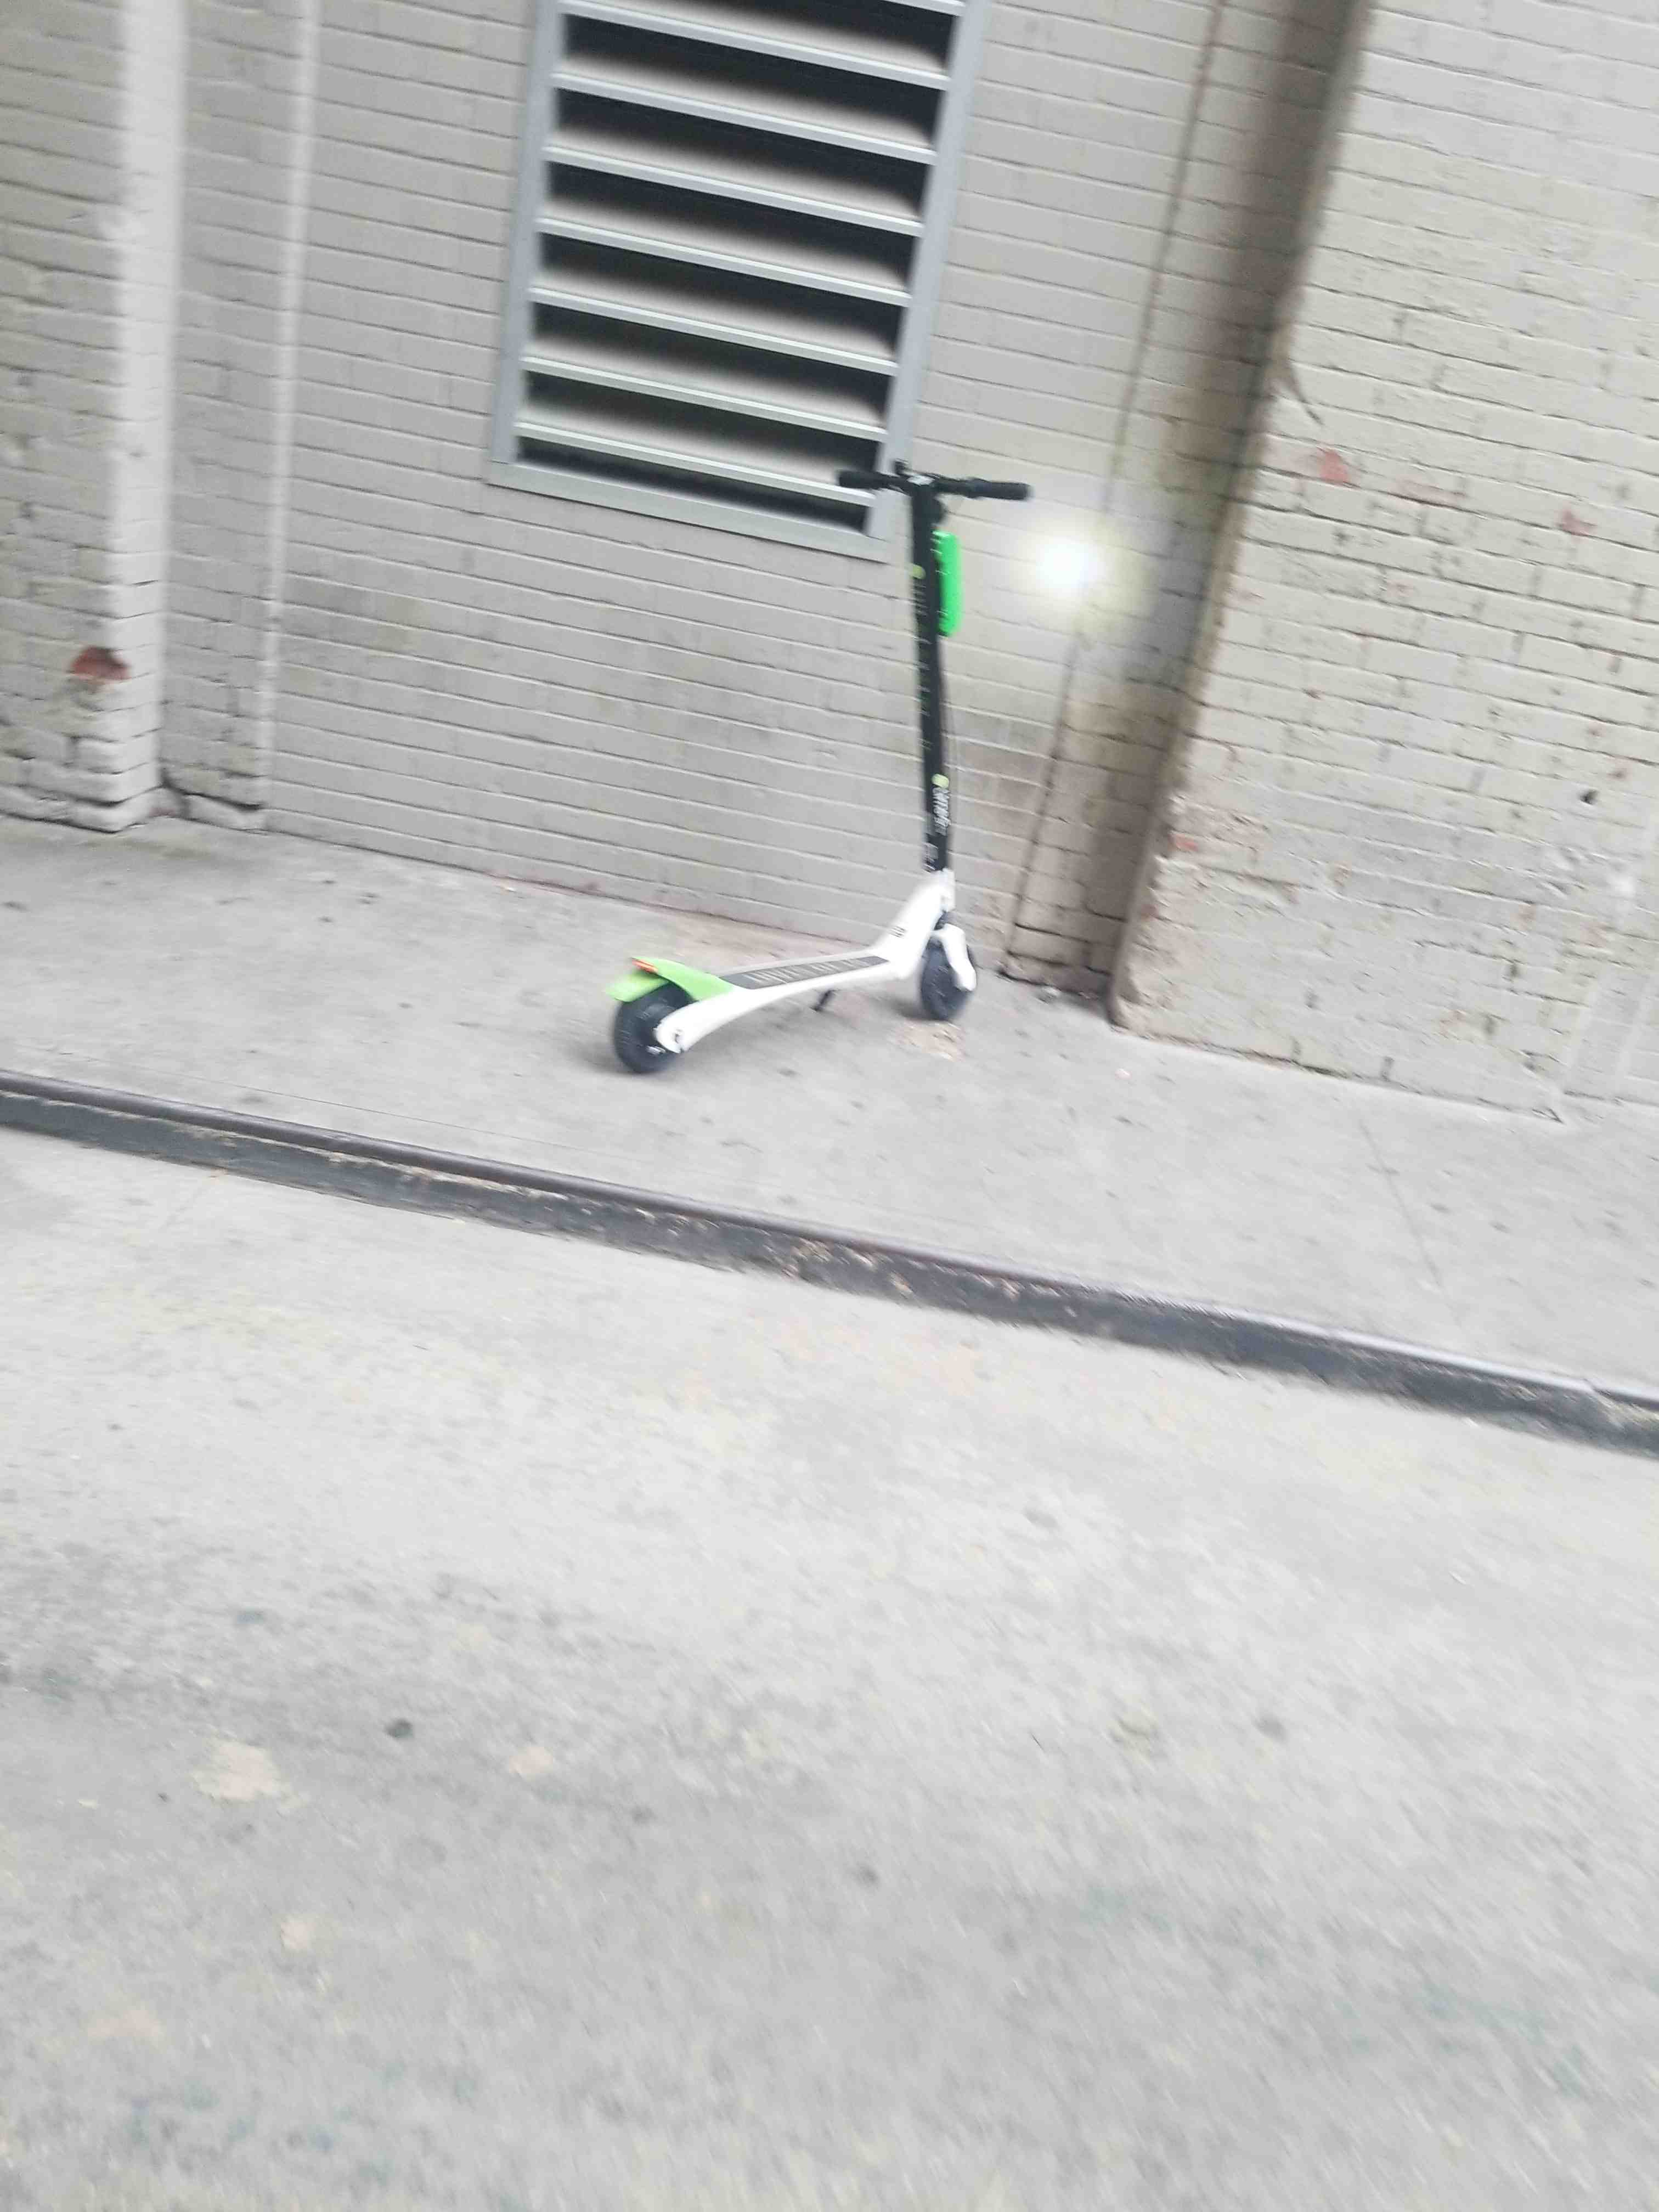scooter: (606, 420, 1021, 1134)
